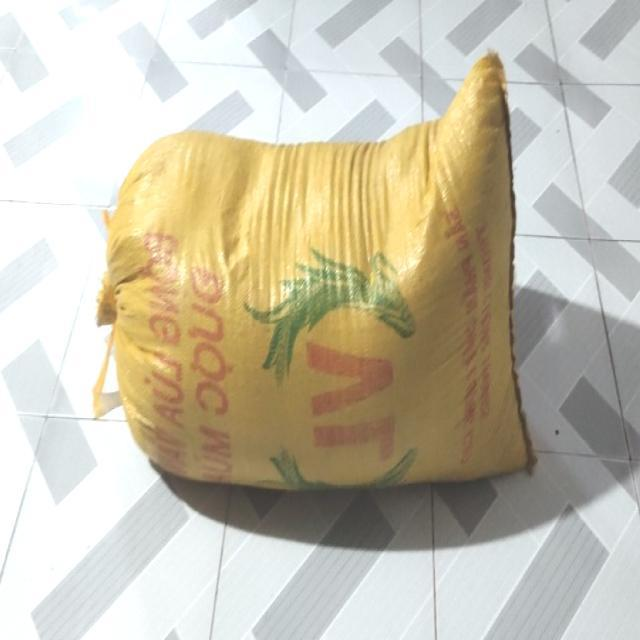gunny_bag: (93, 52, 535, 490)
